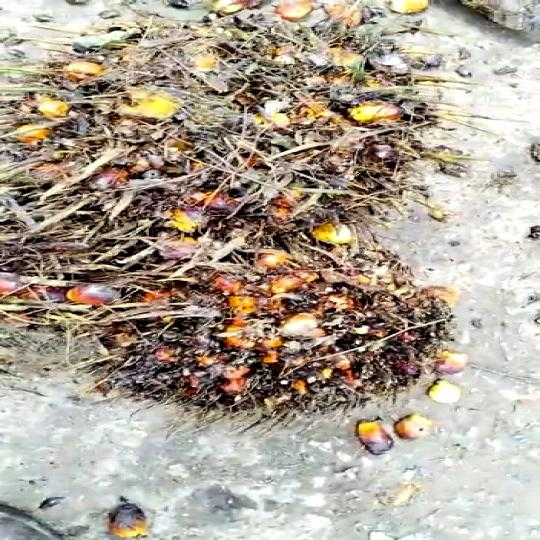terlalu masak: (0, 13, 449, 262), (44, 241, 483, 426)
